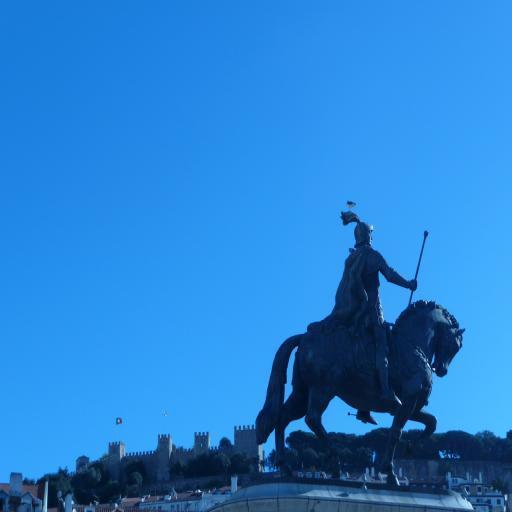horse: (256, 304, 462, 488)
